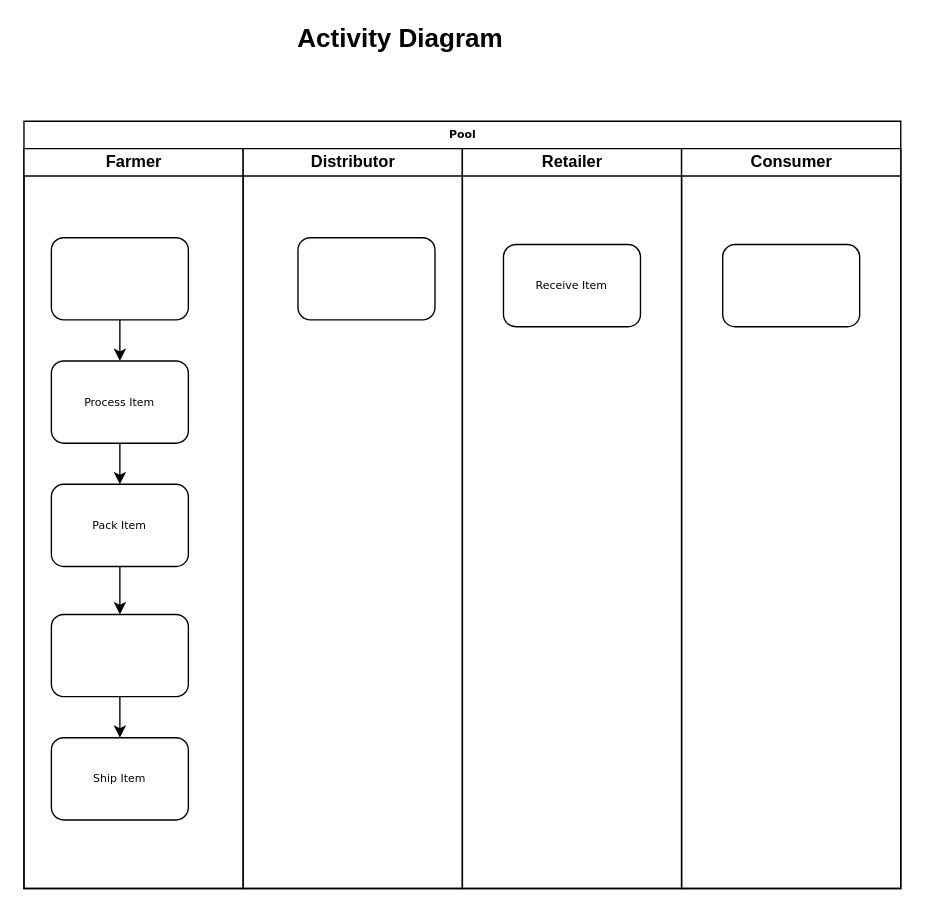
Some shapes in this 925 by 912 pixel diagram are drawn without their labels. Here are the shapes that lost their labels. From the top down, the centre of each, then its label:
At (119,278): "Harvest Item".
At (366,278): "Buy Item".
At (790,285): "Purchase Item".
At (119,655): "Add Item".
